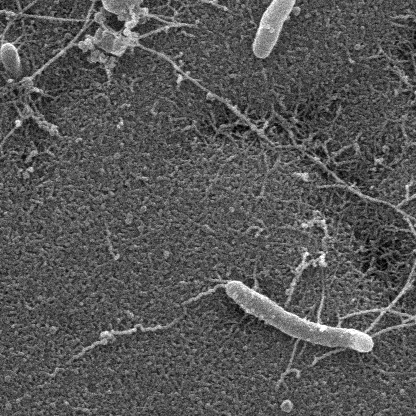cell2cell: (374, 294, 416, 338)
cell2surface: (24, 0, 100, 77), (165, 279, 228, 312), (315, 274, 333, 320), (0, 27, 5, 74)
filament: (226, 279, 374, 353)
regular: (255, 0, 303, 59)
spheroplast: (96, 0, 146, 20)
